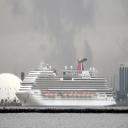cruises: (15, 58, 119, 110)
